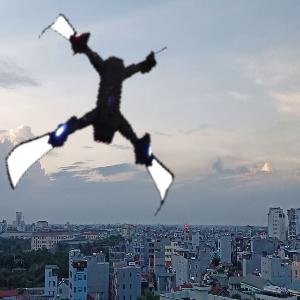drone: (12, 29, 202, 219)
